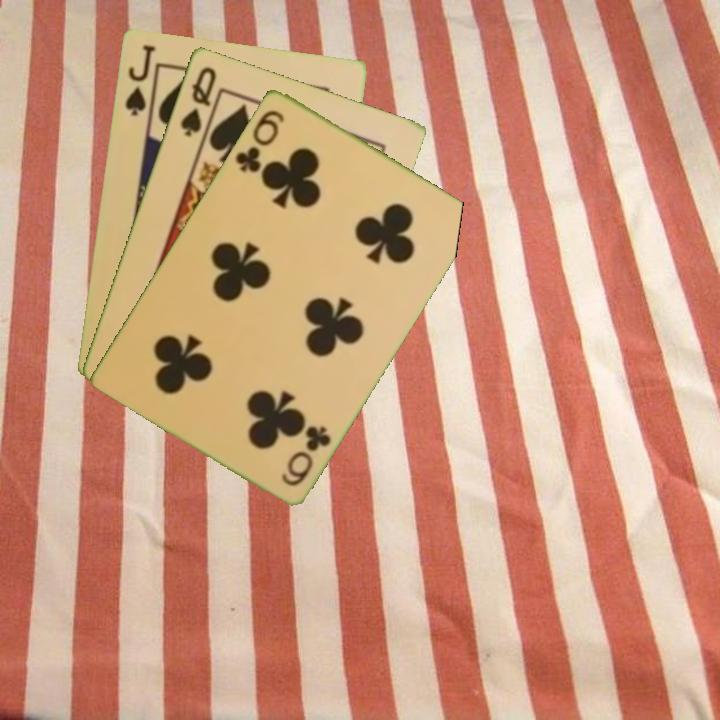6c: (231, 105, 288, 175), (277, 421, 334, 489)
Js: (121, 41, 158, 118)
Qs: (176, 62, 219, 139)
